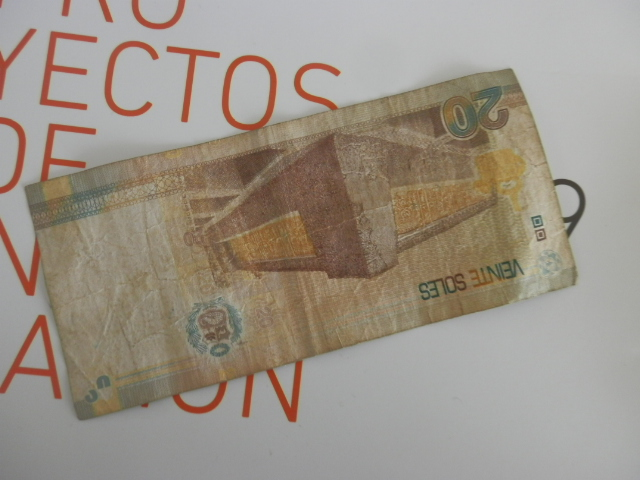B20: (40, 83, 573, 414)
